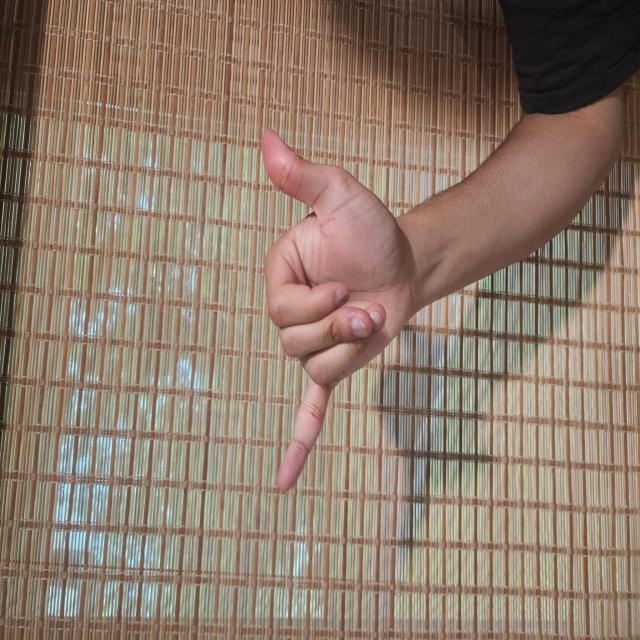Y: (108, 342, 388, 560)
